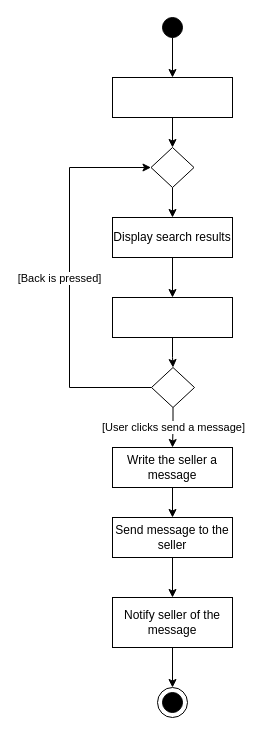
The diagram is 262 pixels wide and 735 high, and some of its shapes have lost their labels. Here are the shapes that lost their labels. From the top down, the box of each, then its label:
(112, 76, 232, 118): Ask the system to search a book
(112, 296, 232, 338): Ask the system to display an insertion
